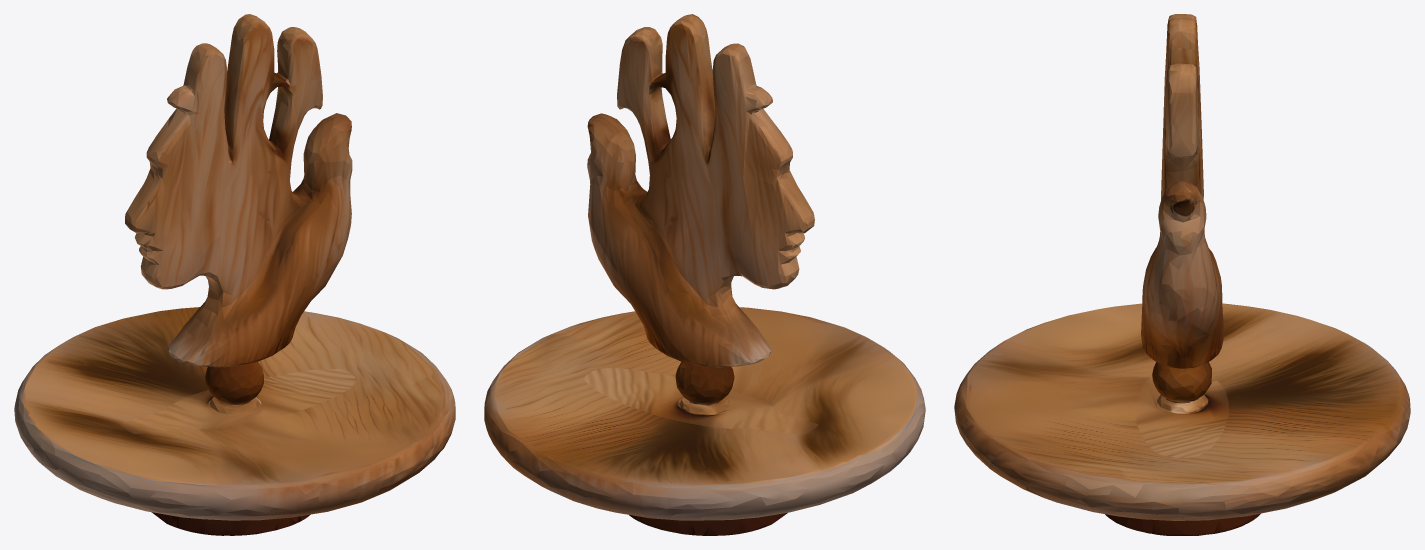
Rendered from product-huali-003-mobile.glb.
The picture shows the model from 3 angles, left to right: view 1: azimuth 30°, elevation 25°; view 2: azimuth 150°, elevation 25°; view 3: azimuth 270°, elevation 25°; orthographic projection. The views are drawn at different scales.
Visible parts, largest first — view 1: material; view 2: material; view 3: material.
Boxes of the visible parts, x1,y1,x2,y2 form: material: (14,14,455,535); material: (484,14,925,535); material: (954,14,1410,535).
Bounding box in the file's own units: 0.9393 × 1.12 × 0.9487.
Materials: 1 (1 with a texture image).
